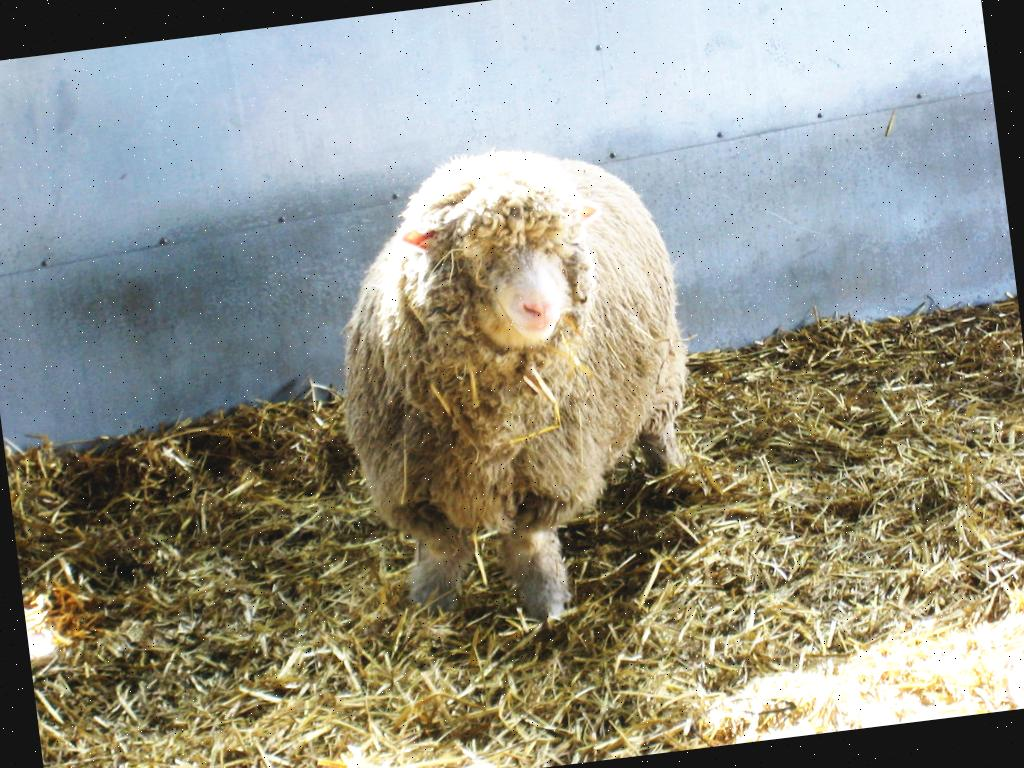Sheep: (312, 130, 722, 654)
